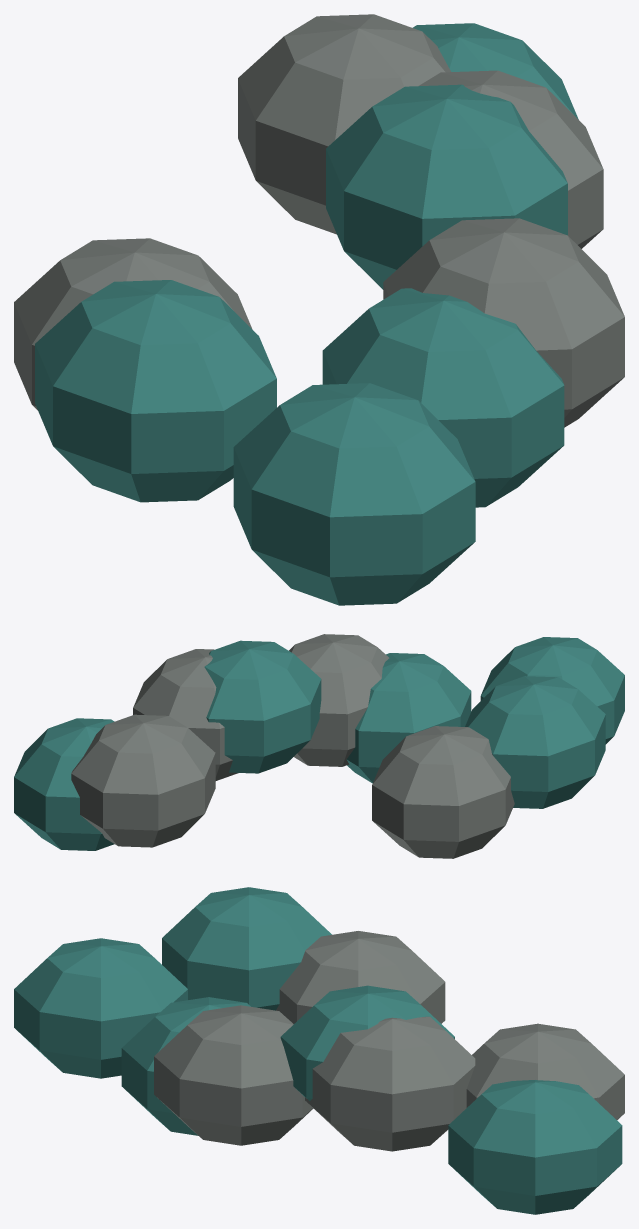
Rendered from coast-reef.lod0.glb.
The picture shows the model from 3 angles, top to bottom: view 1: azimuth 30°, elevation 25°; view 2: azimuth 150°, elevation 25°; view 3: azimuth 270°, elevation 25°; orthographic projection. The views are drawn at different scales.
Parts seen in each view (by area): view 1: coast-reef__body; view 2: coast-reef__body; view 3: coast-reef__body.
Part boxes in pixels (x1,y1,x2,y2): coast-reef__body: (14,14,624,605); coast-reef__body: (14,634,624,858); coast-reef__body: (14,887,624,1214).
Size of the model in its own units: 4.73 by 1.69 by 5.34.
